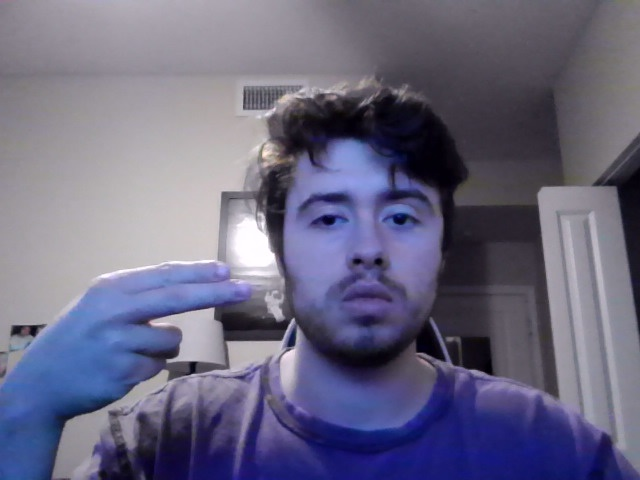h: (11, 259, 252, 425)
